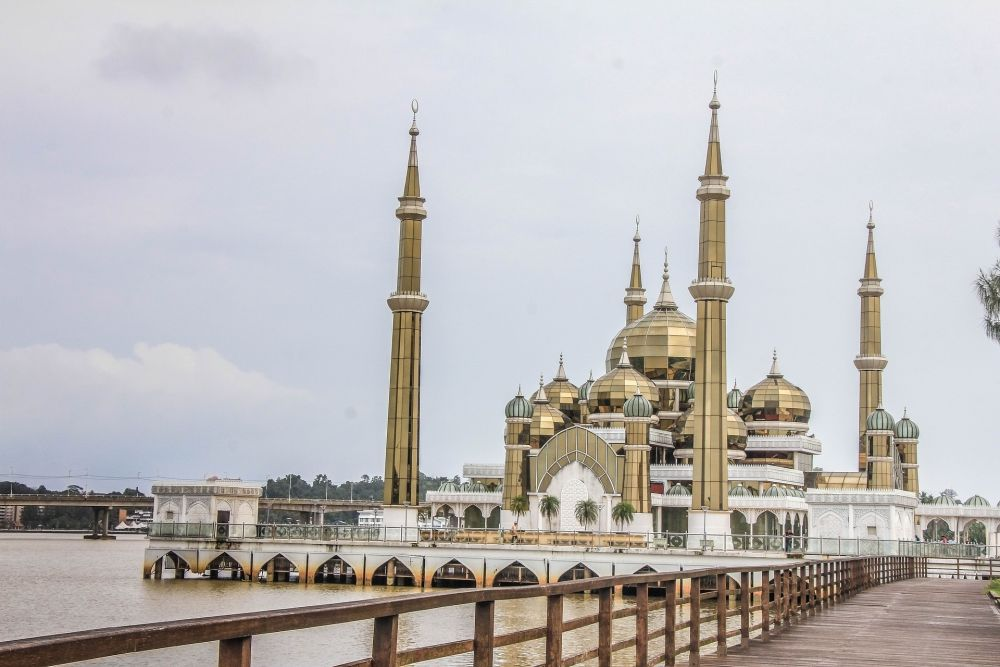Mosque: (342, 74, 928, 532)
